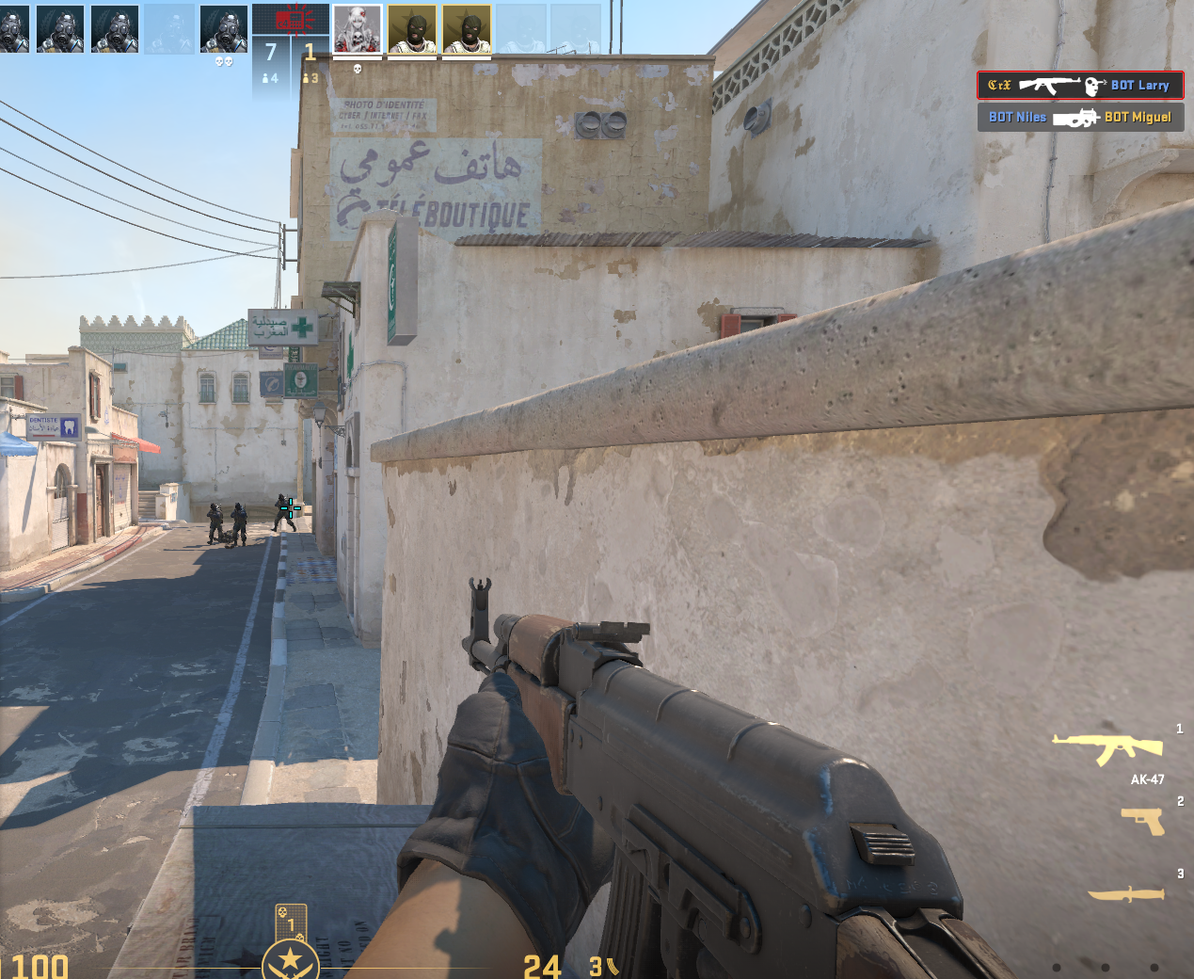CT: (274, 493, 296, 533), (230, 502, 247, 546), (207, 503, 223, 544)
